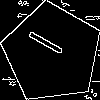I: (27, 28, 73, 62)
